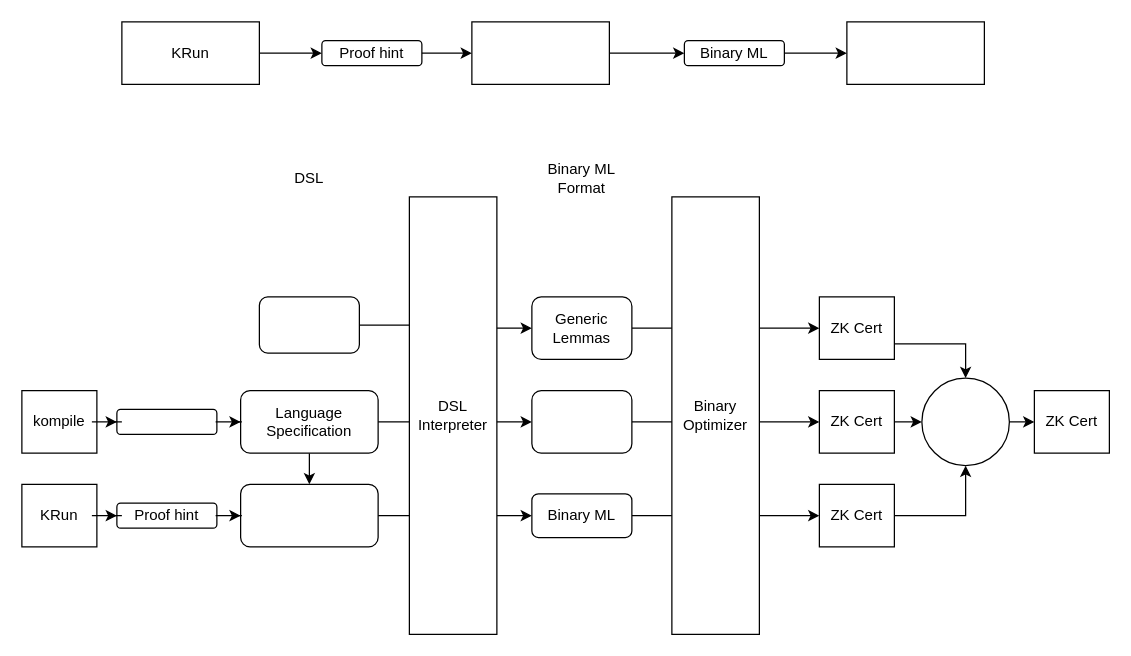
The diagram is 1131 pixels wide and 656 high, and some of its shapes have lost their labels. Here are the shapes that lost their labels. From the top down, the box of each, then its label:
(471, 21, 609, 84): Proof Generation via DSL
(846, 21, 984, 84): ZK Certificate
(258, 296, 359, 353): Handwritten Proofs using tactics
(116, 408, 217, 434): definition.kore
(531, 389, 632, 453): Language Specific lemmas
(921, 377, 1009, 466): Aggregator
(239, 483, 378, 547): Execution Proof Generator
